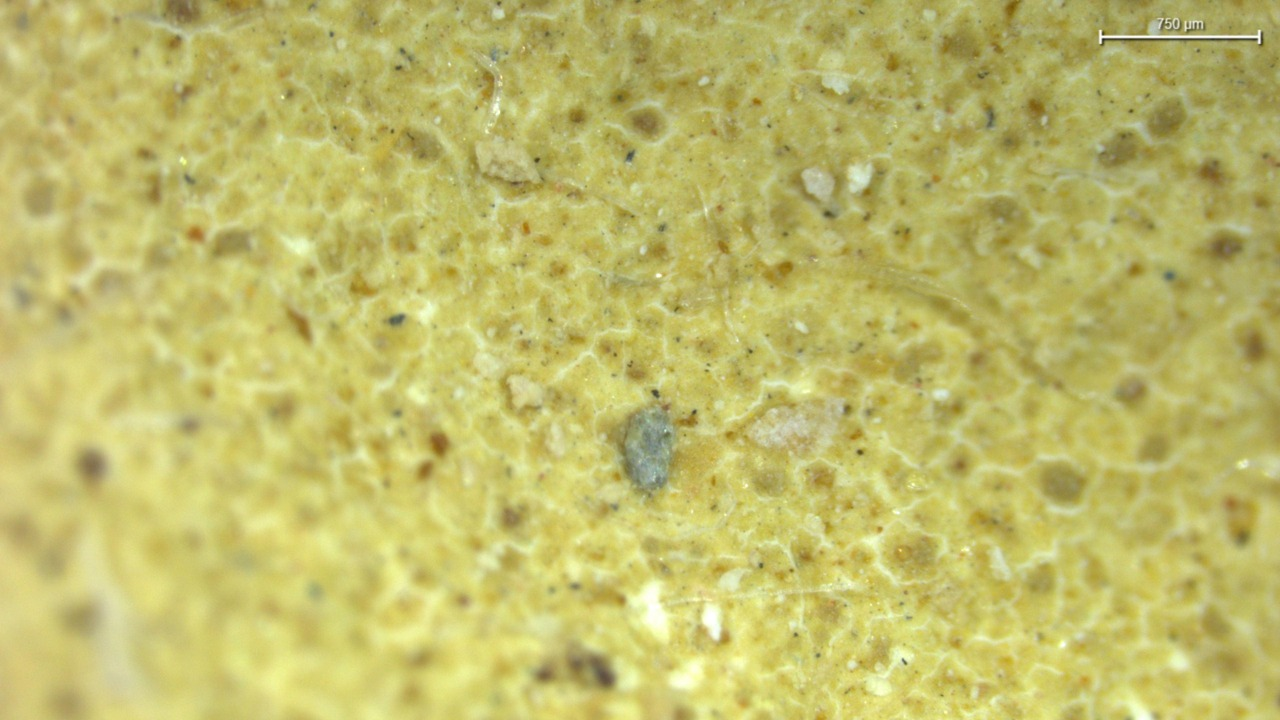microplastic_fragment: (624, 405, 675, 490), (476, 136, 540, 183), (801, 167, 835, 203), (846, 161, 873, 194)
